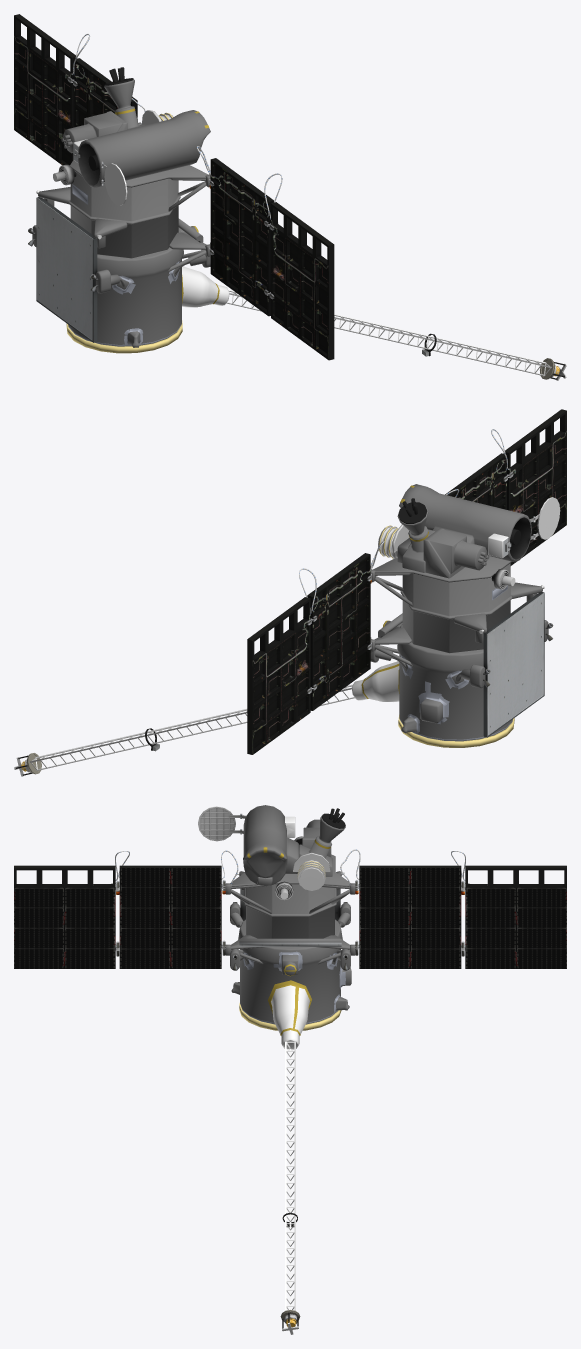
The model's file is original.glb.
The picture shows the model from 3 angles, top to bottom: view 1: azimuth 30°, elevation 25°; view 2: azimuth 150°, elevation 25°; view 3: azimuth 270°, elevation 25°; orthographic projection. The views are drawn at different scales.
Visible parts, largest first — view 1: BUS, solar_array, antenna, mag_boom, brass_base, epic_lens, silver_tape, epic_interior; view 2: BUS, solar_array, antenna, mag_boom, silver_tape, brass_base, epic_lens, faraday_cup, epic_interior, cone_instruments; view 3: solar_array, BUS, mag_boom, epic_lens, faraday_cup, cylinder_thingy, gold_tape.
Boxes of the visible parts, <box> form: BUS: <box>32,79,229,347</box>; solar_array: <box>14,14,334,360</box>; antenna: <box>36,197,97,342</box>; mag_boom: <box>226,289,551,376</box>; brass_base: <box>66,320,182,353</box>; epic_lens: <box>101,161,127,205</box>; silver_tape: <box>72,184,180,345</box>; epic_interior: <box>78,143,100,185</box>; BUS: <box>351,484,548,741</box>; solar_array: <box>247,409,566,754</box>; antenna: <box>483,592,544,737</box>; mag_boom: <box>30,684,354,770</box>; silver_tape: <box>400,585,507,733</box>; brass_base: <box>398,715,514,747</box>; epic_lens: <box>529,497,560,539</box>; faraday_cup: <box>378,524,409,558</box>; epic_interior: <box>510,517,530,559</box>; cone_instruments: <box>398,498,427,523</box>; solar_array: <box>14,865,566,968</box>; BUS: <box>225,805,355,1050</box>; mag_boom: <box>285,1041,295,1310</box>; epic_lens: <box>198,806,246,841</box>; faraday_cup: <box>293,852,330,890</box>; cylinder_thingy: <box>239,938,341,946</box>; gold_tape: <box>247,839,330,1035</box>.
Size of the model in its own units: 5.67 by 4.24 by 6.11.
16 materials, 5 textured.
